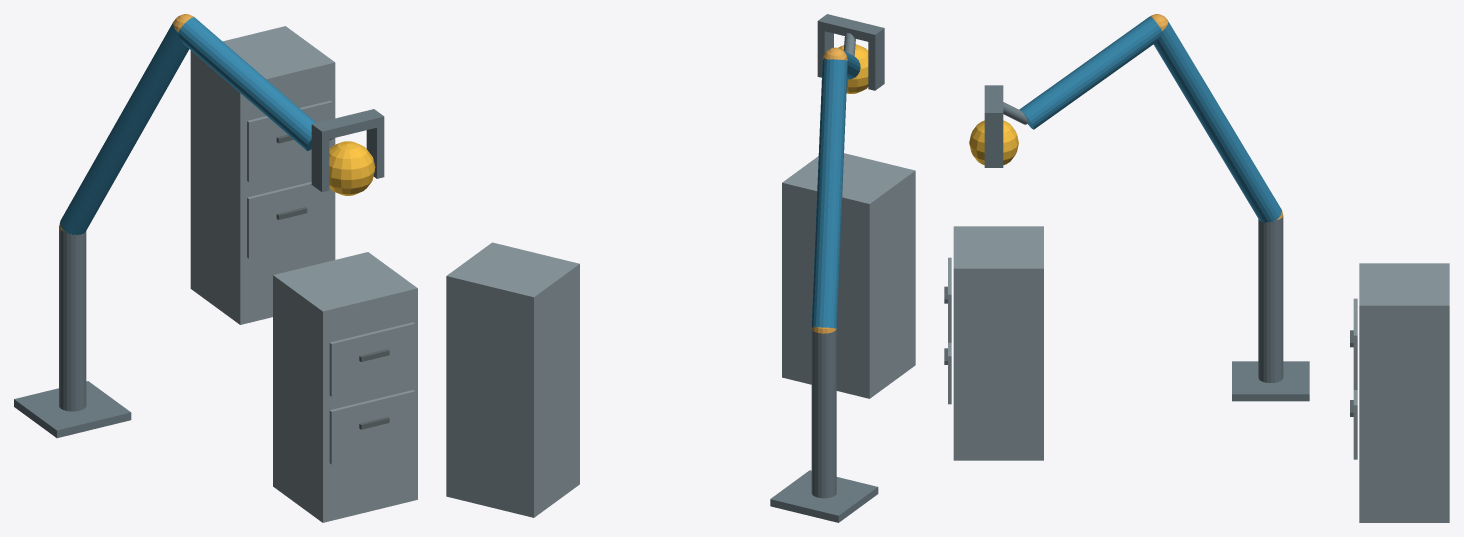
3 renders of one model, left to right at view 1: azimuth 30°, elevation 25°; view 2: azimuth 150°, elevation 25°; view 3: azimuth 270°, elevation 25°, orthographic. The views are drawn at different scales.
Visible parts, largest first — view 1: cabinet_1 body, cabinet_2 body, moving link 1, fixed post, cabinet_2 drawer front, moving link 2, cabinet_1 drawer front, cabinet_1 drawer front.001, pedestal, cabinet_2 drawer front.001, ball ball_1, gripper bridge (+2 smaller); view 2: cabinet_2 body, cabinet_1 body, moving link 1, fixed post, pedestal, gripper bridge, gripper finger -1, ball ball_1; view 3: cabinet_2 body, cabinet_1 body, moving link 1, fixed post, moving link 2, pedestal, ball ball_1, gripper finger 1, gripper bridge.
Boxes of the visible parts, x1,y1,x2,y2 form: cabinet_1 body: [273, 252, 417, 522]; cabinet_2 body: [190, 26, 335, 324]; moving link 1: [60, 21, 189, 234]; fixed post: [59, 226, 86, 411]; cabinet_2 drawer front: [247, 182, 332, 258]; moving link 2: [178, 17, 315, 150]; cabinet_1 drawer front: [329, 390, 415, 464]; cabinet_1 drawer front.001: [329, 322, 415, 396]; pedestal: [14, 381, 131, 438]; cabinet_2 drawer front.001: [247, 100, 332, 182]; ball ball_1: [329, 141, 375, 195]; gripper bridge: [311, 109, 384, 140]; cabinet_2 body: [446, 242, 579, 517]; cabinet_1 body: [782, 153, 915, 398]; moving link 1: [811, 59, 847, 328]; fixed post: [811, 329, 836, 498]; pedestal: [770, 470, 878, 522]; gripper bridge: [817, 14, 884, 43]; gripper finger -1: [868, 37, 884, 90]; ball ball_1: [838, 44, 868, 93]; cabinet_2 body: [1359, 263, 1449, 522]; cabinet_1 body: [953, 226, 1043, 460]; moving link 1: [1153, 21, 1281, 222]; fixed post: [1258, 216, 1283, 382]; moving link 2: [1019, 16, 1162, 129]; pedestal: [1232, 361, 1309, 401]; ball ball_1: [969, 120, 1018, 165]; gripper finger 1: [984, 121, 1003, 167]; gripper bridge: [984, 85, 1003, 121].
Size of the model in its own units: 1.17 by 1.39 by 1.62.
